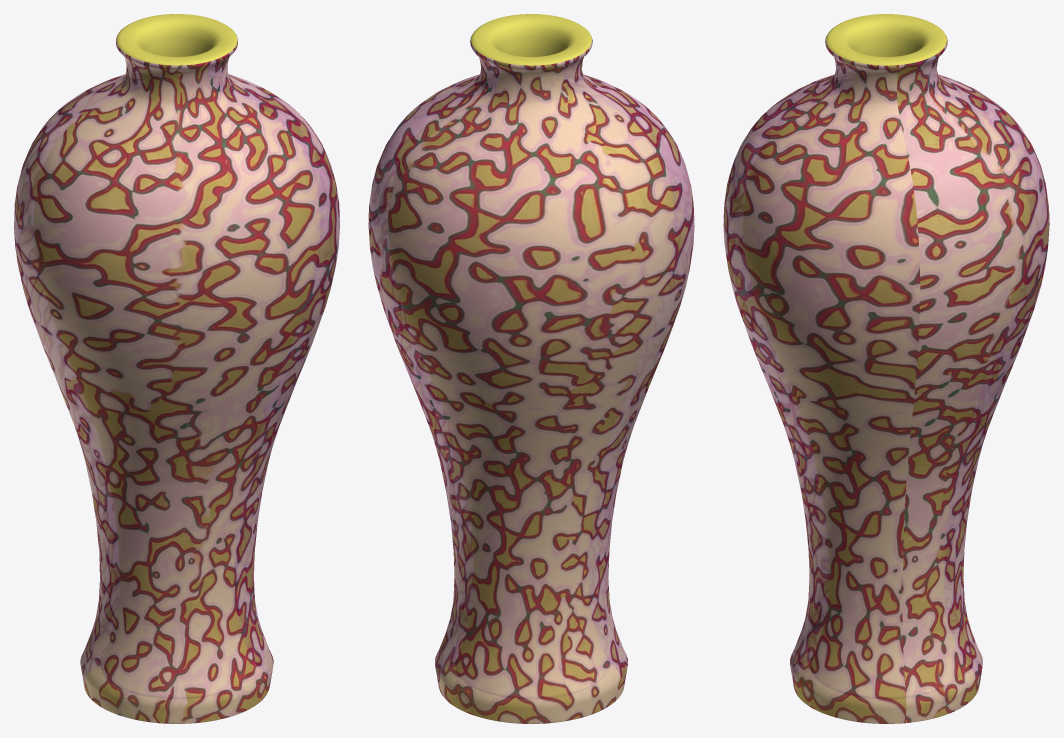
The model's file is vase.glb.
The picture shows the model from 3 angles, left to right: view 1: azimuth 30°, elevation 25°; view 2: azimuth 150°, elevation 25°; view 3: azimuth 270°, elevation 25°; orthographic projection.
Parts seen in each view (by area): view 1: Object_1.002; view 2: Object_1.002; view 3: Object_1.002.
Part boxes in pixels (<box>): Object_1.002: <box>14,14,339,723</box>; Object_1.002: <box>368,14,694,723</box>; Object_1.002: <box>723,14,1049,723</box>.
Size of the model in its own units: 2.44 by 5.34 by 2.44.
2 materials, 1 textured.
